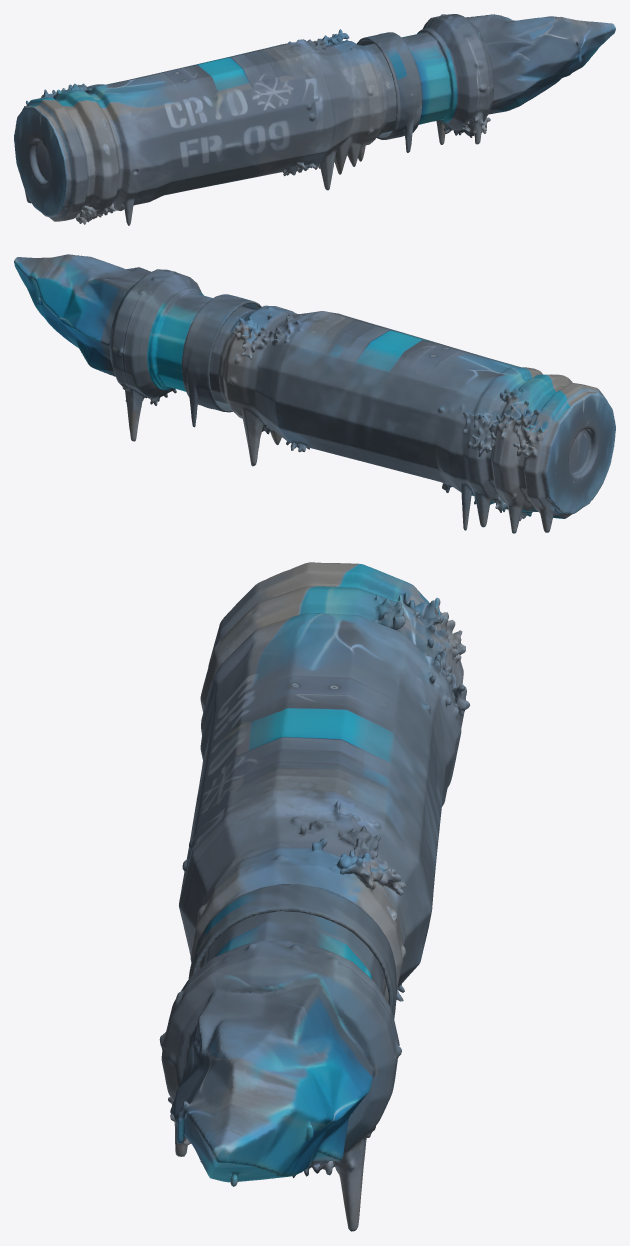
File: tripo_convert_60840eb7-61e2-4291-b082-5a947ca460f5.fbx
The picture shows the model from 3 angles, top to bottom: view 1: azimuth 30°, elevation 25°; view 2: azimuth 150°, elevation 25°; view 3: azimuth 270°, elevation 25°; orthographic projection. The views are drawn at different scales.
Parts seen in each view (by area): view 1: tripo_node_60840eb7; view 2: tripo_node_60840eb7; view 3: tripo_node_60840eb7.
Boxes of the visible parts, box(x1,y1,x2,y2) form: tripo_node_60840eb7: box(14, 14, 615, 225); tripo_node_60840eb7: box(14, 254, 615, 533); tripo_node_60840eb7: box(159, 562, 469, 1231).
Size of the model in its own units: 1 by 0.2502 by 0.2452.
Materials: 1 (1 with a texture image).
